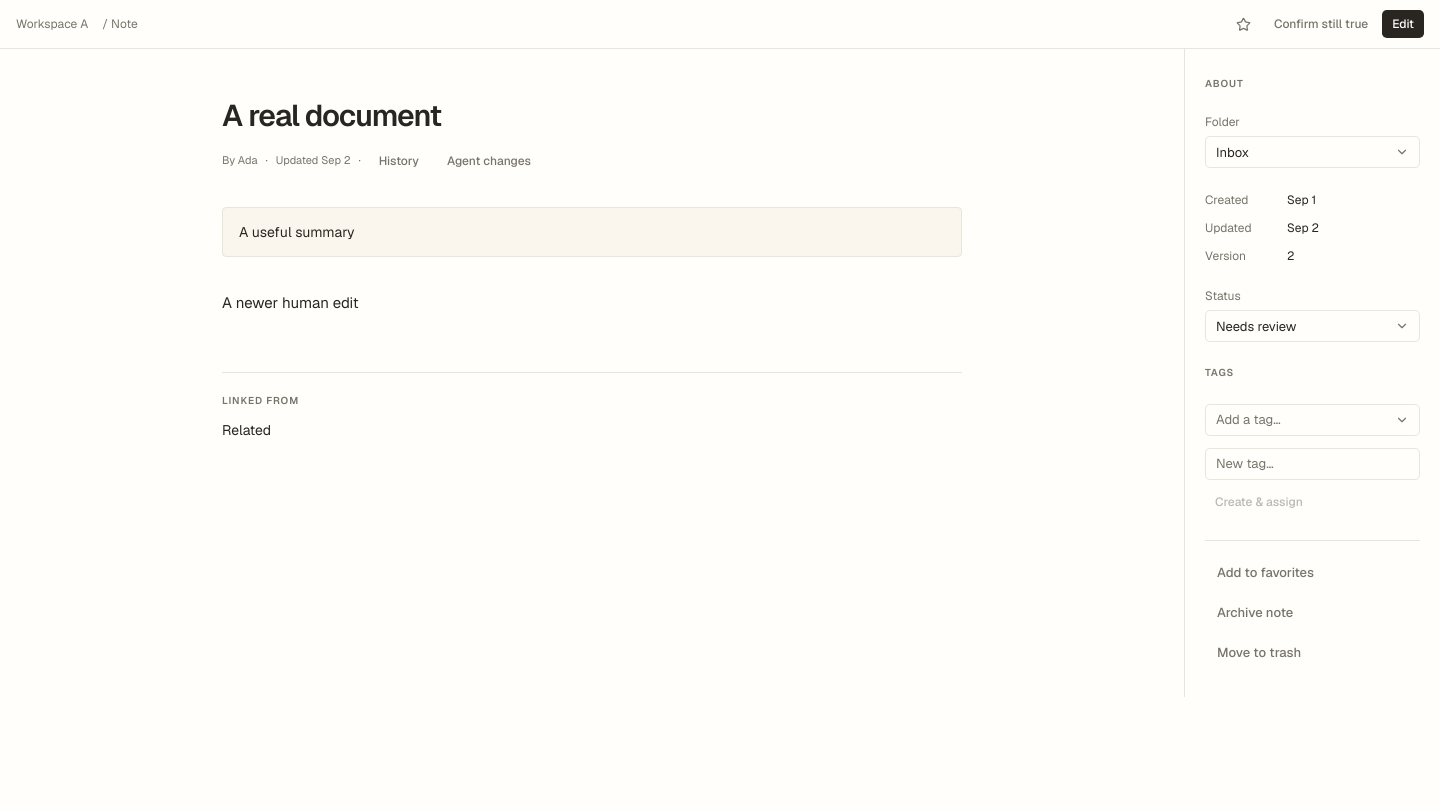
Test case: document interactions › disables acceptance for stale proposals and rejects without changing content
The width and height of the screenshot is (1440, 810).
Click the button "Agent changes" at (489, 160), box top-left (437, 146), bottom-right (541, 174)
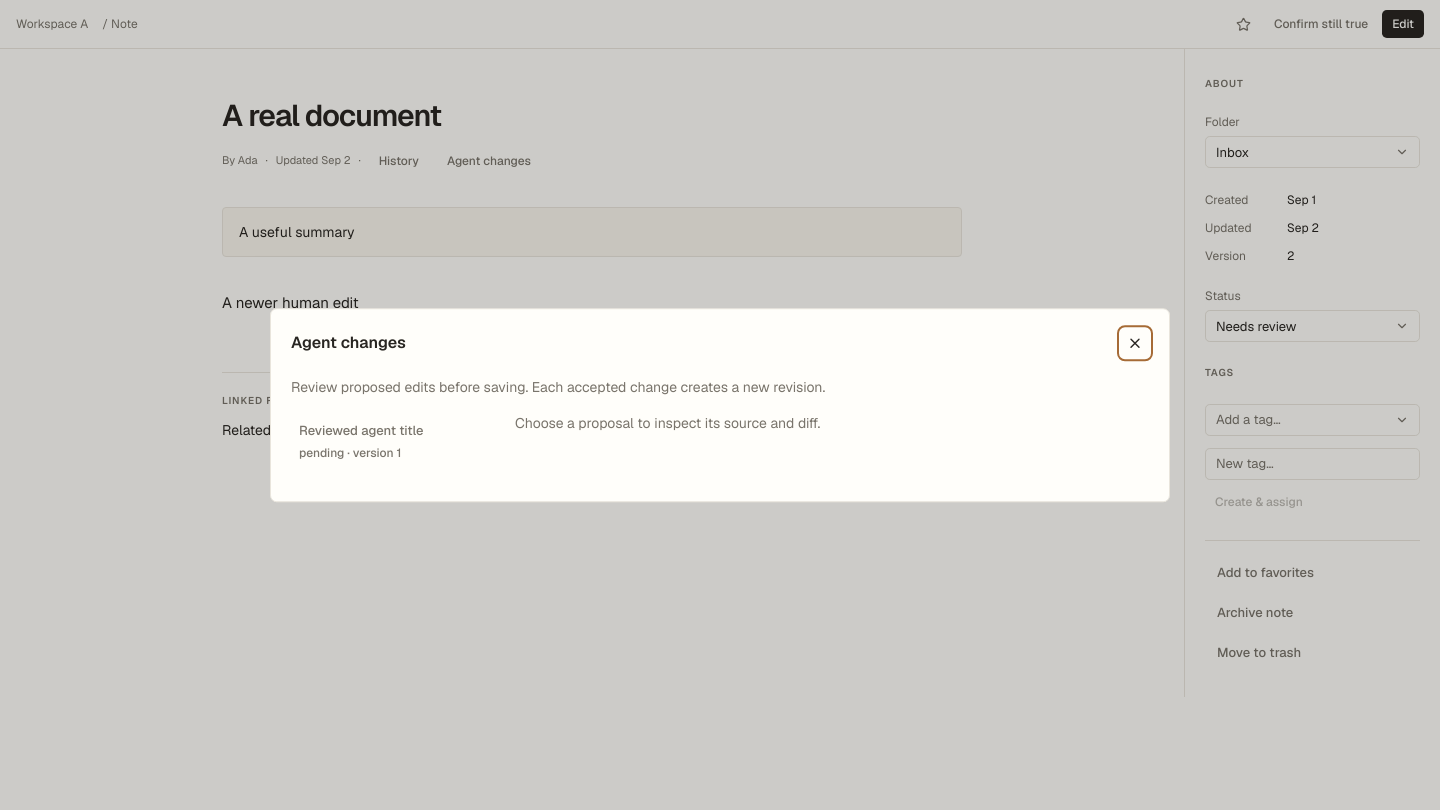
Click the button "Reviewed agent title pending · version 1" at (391, 441), box top-left (291, 413), bottom-right (491, 469)
(page scrolled)
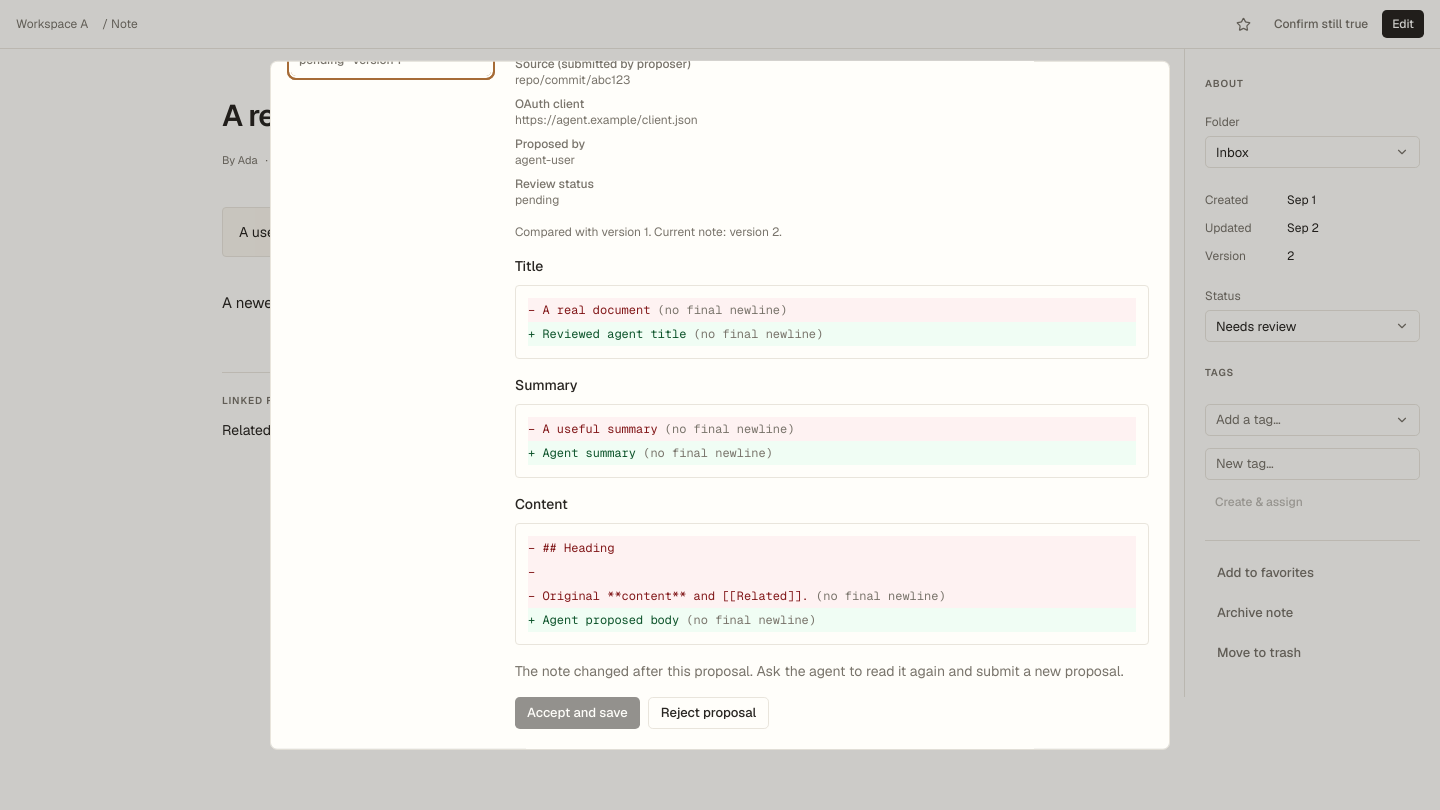
expect the button "Accept and save" is disabled: met, box top-left (515, 697), bottom-right (640, 729)
expect the text "The note changed after this proposal" is shown: met, box top-left (515, 662), bottom-right (1124, 680)
Click the button "Reject proposal" at (708, 713), box top-left (648, 697), bottom-right (769, 729)
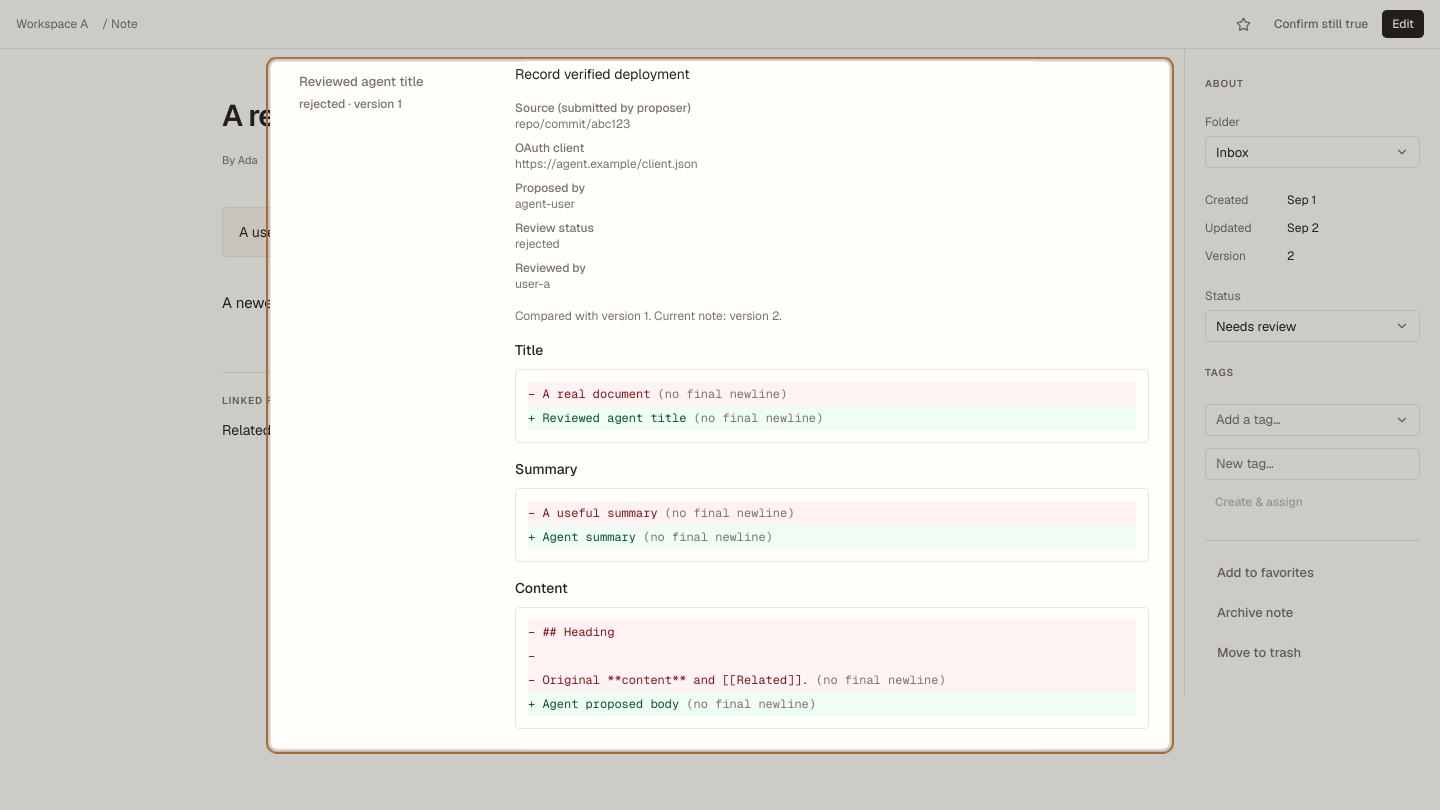
expect the text "A newer human edit" is shown: met, box top-left (222, 292), bottom-right (359, 312)
expect the text "rejected" is shown: met, box top-left (515, 236), bottom-right (560, 252)
